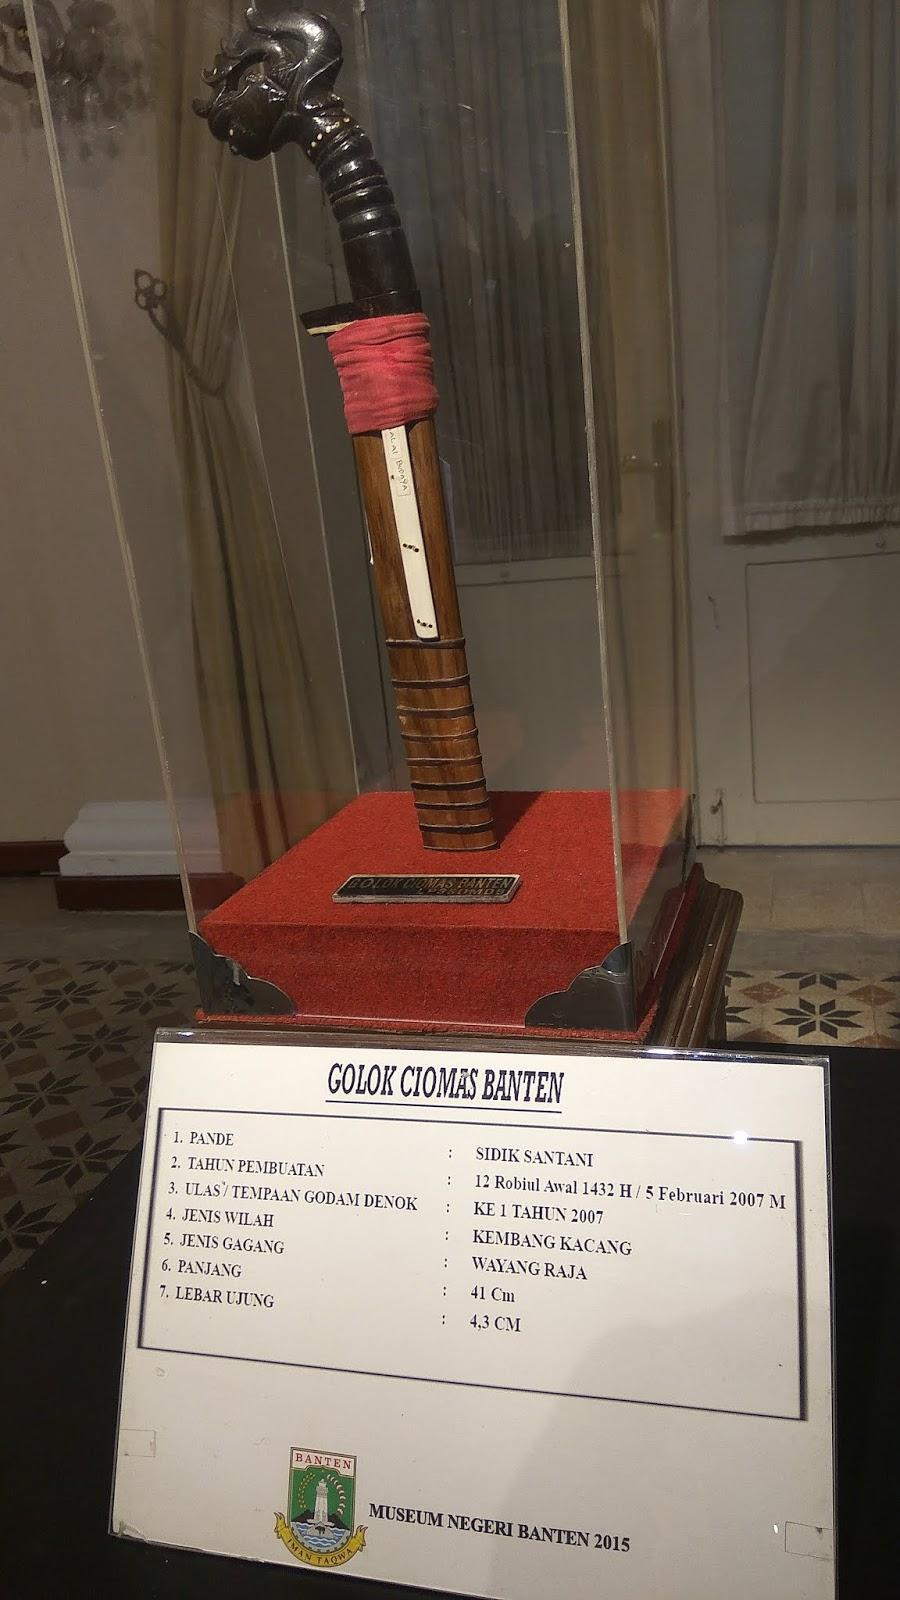espada: (195, 0, 498, 851)
